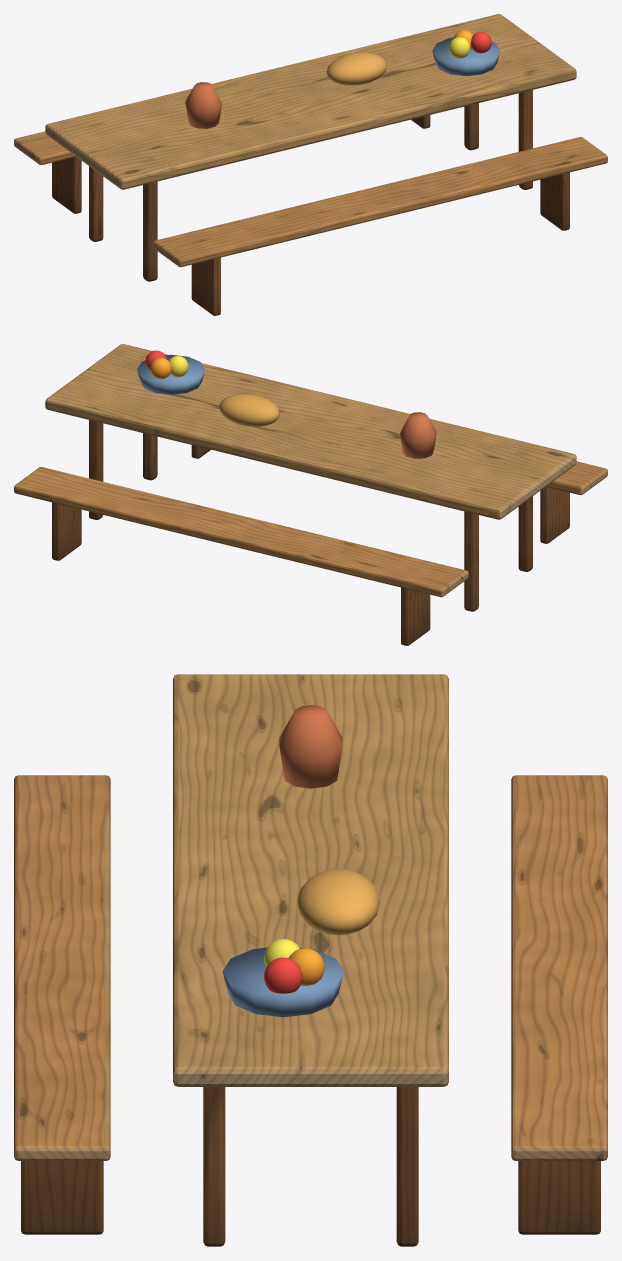
The model's file is long_table.glb.
3 views of the same model, one above another, from view 1: azimuth 30°, elevation 25°; view 2: azimuth 150°, elevation 25°; view 3: azimuth 270°, elevation 25° (orthographic). The views are drawn at different scales.
Visible parts, largest first — view 1: LongTable; view 2: LongTable; view 3: LongTable.
Part boxes in pixels (x1,y1,x2,y2): LongTable: (14, 14, 607, 315); LongTable: (14, 344, 607, 645); LongTable: (14, 674, 607, 1246).
Bounding box in the file's own units: 3.4 × 1.1 × 2.15.
1 material, 1 textured.
